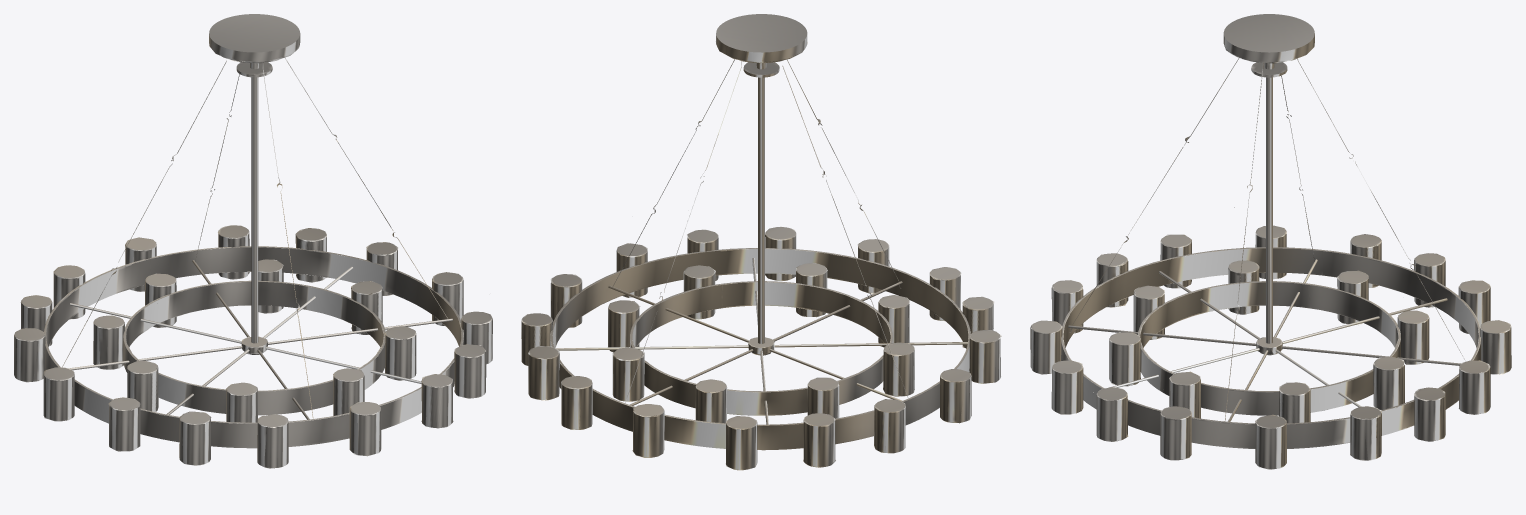
Rendered from raw_model.obj.
The picture shows the model from 3 angles, left to right: view 1: azimuth 30°, elevation 25°; view 2: azimuth 150°, elevation 25°; view 3: azimuth 270°, elevation 25°; orthographic projection.
Parts seen in each view (by area): view 1: solid_001; view 2: solid_001; view 3: solid_001.
Part boxes in pixels (x1,y1,x2,y2): solid_001: (14, 14, 492, 468); solid_001: (521, 14, 1001, 470); solid_001: (1030, 14, 1511, 469).
Size of the model in its own units: 0.7393 by 0.6787 by 0.7387.
Materials: 1 (1 with a texture image).
